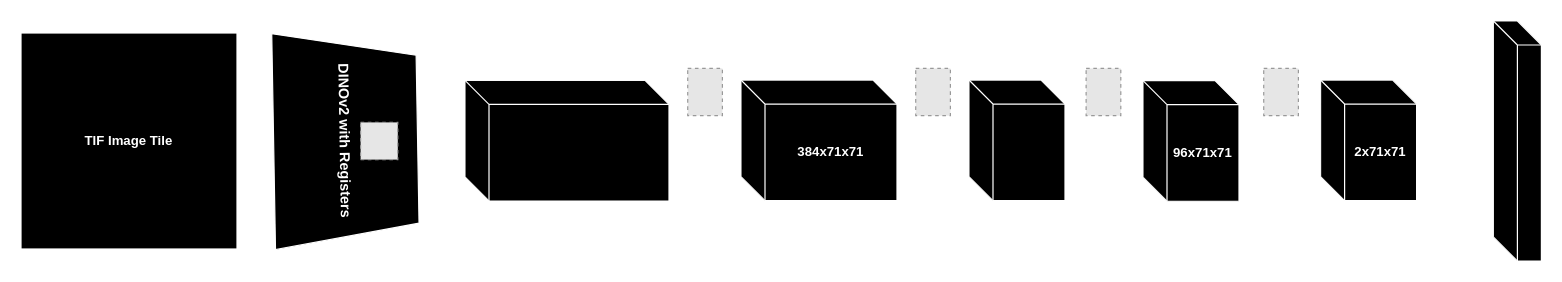
Image size: 1562x282. Some labels were removed from this diagram. Grey dashed boxes stand in for pictures. Each missing label, with the centre of its shape:
192x71x71: the point at 1016,140
768x71x71: the point at 566,140
